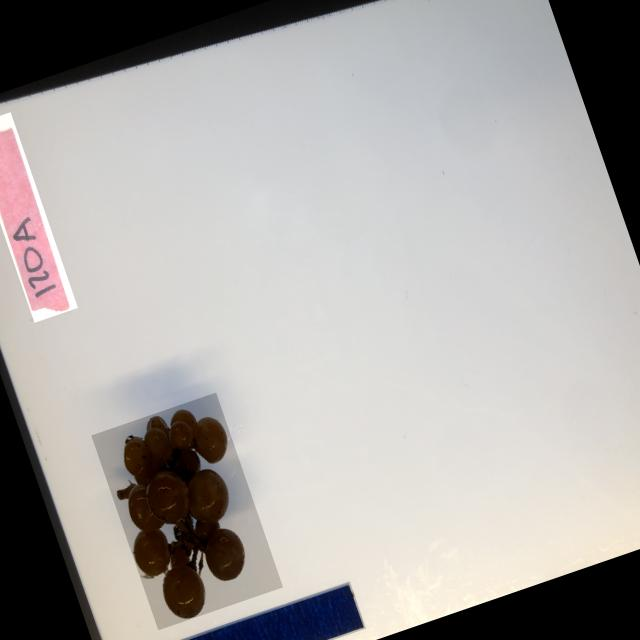grape_cluster: (90, 391, 282, 628)
index: (0, 110, 78, 321)
measure_label: (123, 579, 365, 640)
